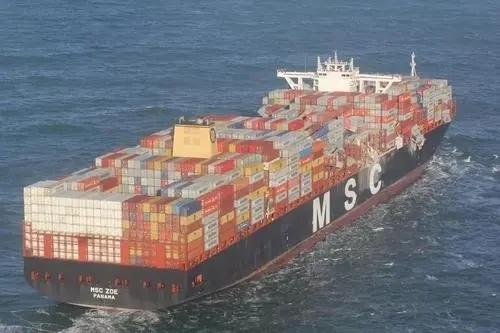Cargoship: (13, 45, 460, 310)
